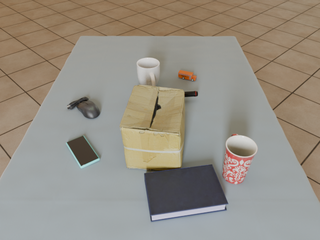book: (144, 165, 228, 222)
box: (120, 84, 185, 171)
cup: (222, 134, 257, 184), (137, 58, 160, 86)
mouse: (67, 97, 100, 119)
phone: (66, 136, 100, 168)
toy_car: (178, 70, 197, 81)
